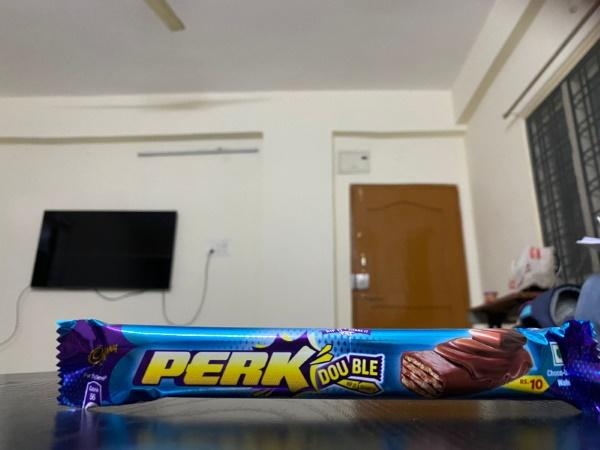Perk: (46, 300, 600, 421)
